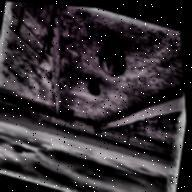boar: (90, 33, 132, 82), (85, 78, 103, 98), (83, 117, 95, 127)
